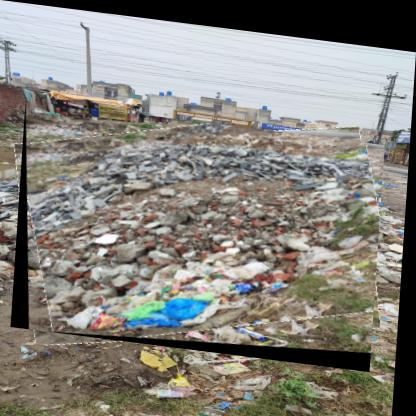Garbage: (16, 100, 388, 364)
